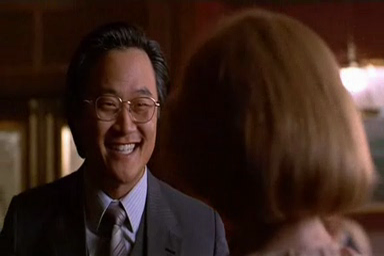cu: (1, 1, 384, 256)
face: (90, 72, 158, 183)
ots: (160, 6, 384, 256)
person: (1, 22, 231, 256)
